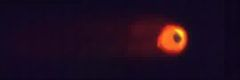keyhole: (171, 31, 183, 46)
